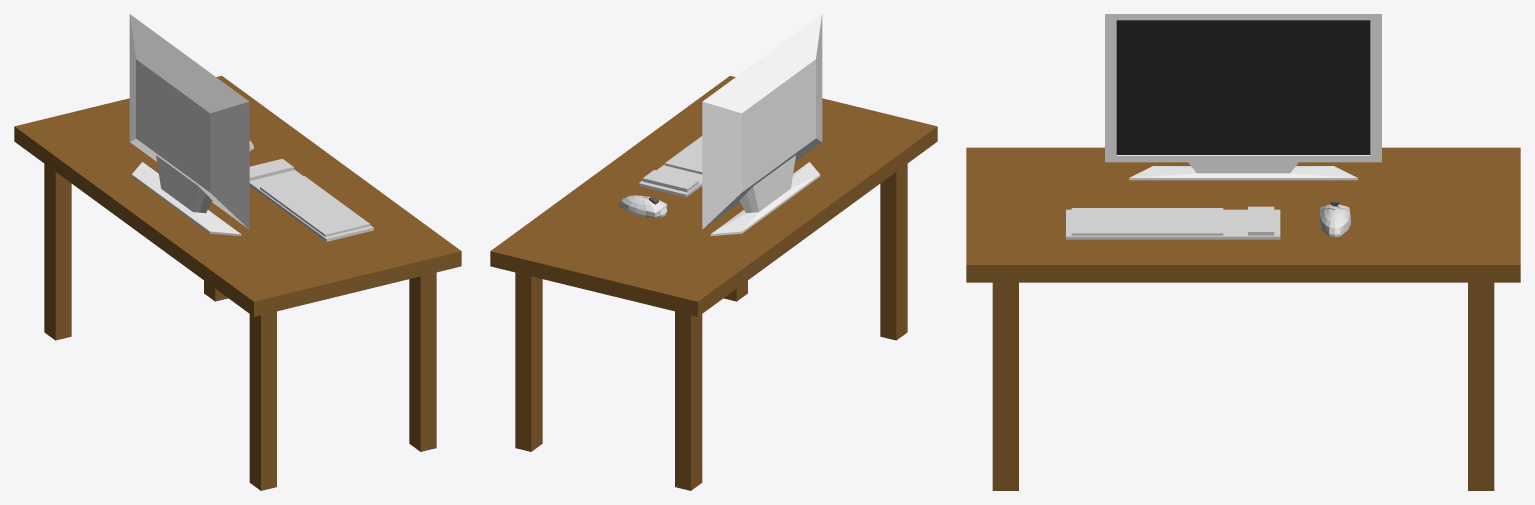
Rendered from Computer.fbx.
3 renders of one model, left to right at view 1: azimuth 30°, elevation 25°; view 2: azimuth 150°, elevation 25°; view 3: azimuth 270°, elevation 25°, orthographic. The views are drawn at different scales.
Visible parts, largest first — view 1: Plane, Cube.001, Cube.002; view 2: Plane, Cube.001, Cube.002, Sphere; view 3: Plane, Cube.001, Cube.002, Sphere.
Boxes of the visible parts, x1,y1,x2,y2 form: Plane: (14, 76, 461, 490); Cube.001: (129, 14, 249, 236); Cube.002: (249, 158, 373, 241); Plane: (490, 76, 937, 490); Cube.001: (702, 14, 822, 236); Cube.002: (639, 136, 702, 197); Sphere: (619, 195, 667, 218); Plane: (966, 147, 1520, 490); Cube.001: (1105, 14, 1381, 180); Cube.002: (1066, 206, 1280, 239); Sphere: (1318, 202, 1350, 237).
Bounding box in the file's own units: 200 × 317 × 400.
